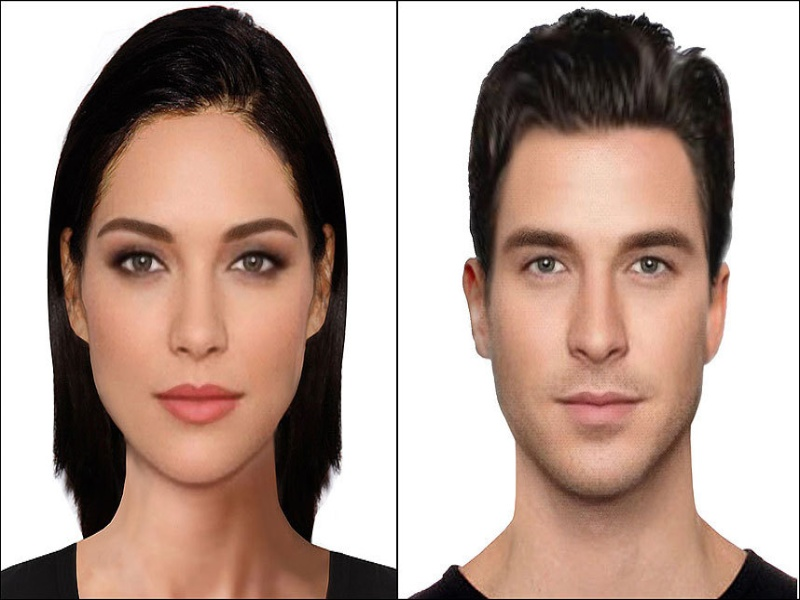face: (97, 211, 298, 434), (502, 226, 700, 431)
